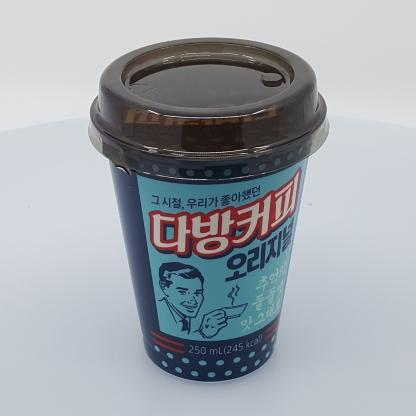----------: (88, 37, 329, 382)
